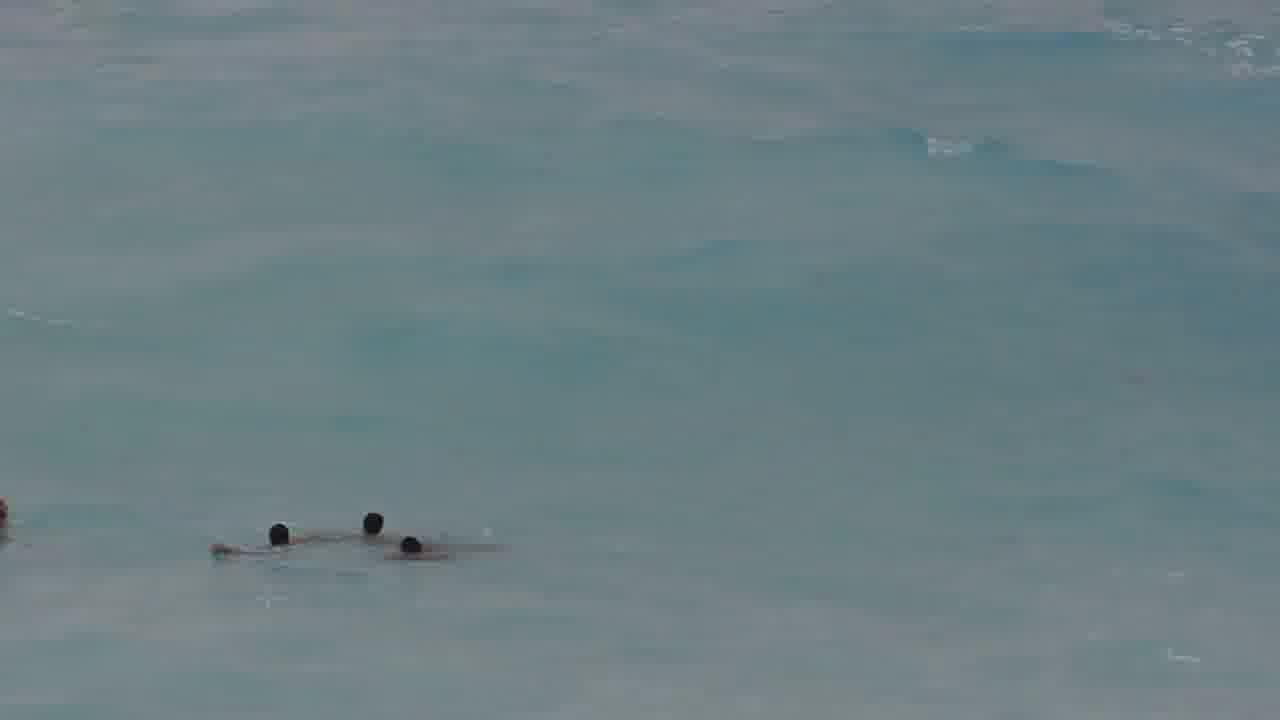swimmer: (209, 516, 316, 561), (388, 533, 476, 565), (332, 508, 399, 544)
